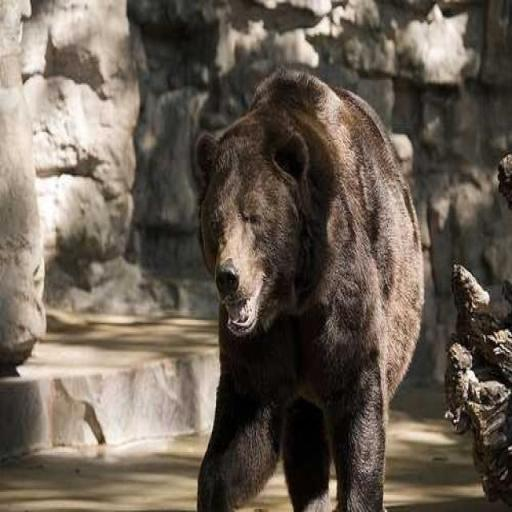Bear: (193, 66, 425, 511)
